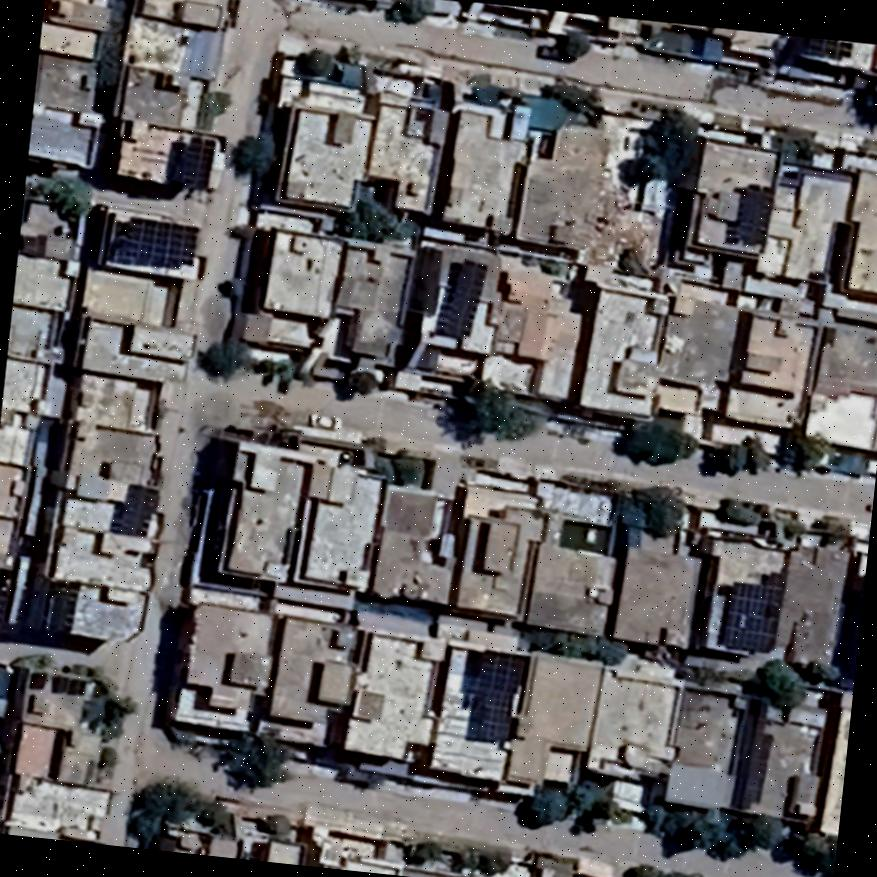Solarpanel: (465, 646, 533, 747), (715, 577, 786, 658), (103, 214, 202, 268), (430, 261, 491, 343), (103, 481, 159, 539), (164, 130, 215, 192), (729, 181, 775, 249), (43, 584, 82, 629), (0, 587, 10, 619)
